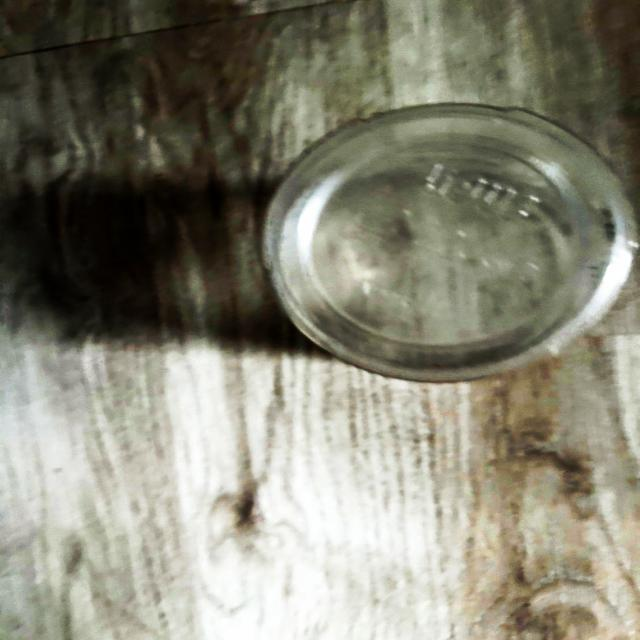Plastic Cup: (262, 104, 638, 382)
